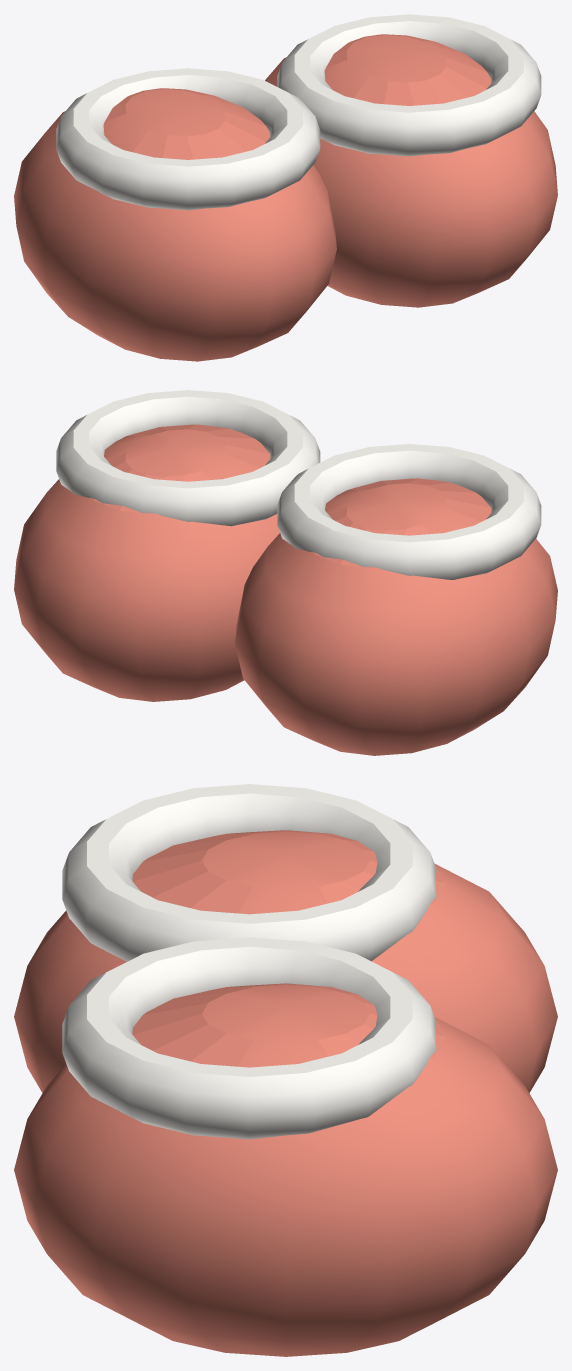
The model's file is Shoes_Moonboots.fbx.
The picture shows the model from 3 angles, top to bottom: view 1: azimuth 30°, elevation 25°; view 2: azimuth 150°, elevation 25°; view 3: azimuth 270°, elevation 25°; orthographic projection. The views are drawn at different scales.
Parts seen in each view (by area): view 1: Moon_Boot.001, Moon_Boot, Moon_Boot_Ring.001, Moon_Boot_Ring; view 2: Moon_Boot.001, Moon_Boot, Moon_Boot_Ring.001, Moon_Boot_Ring; view 3: Moon_Boot, Moon_Boot.001, Moon_Boot_Ring, Moon_Boot_Ring.001.
Part boxes in pixels (x1,y1,x2,y2): Moon_Boot.001: (14,88,336,361); Moon_Boot: (265,34,557,307); Moon_Boot_Ring.001: (56,68,320,210); Moon_Boot_Ring: (277,14,541,156); Moon_Boot.001: (235,478,557,755); Moon_Boot: (14,424,279,701); Moon_Boot_Ring.001: (277,444,541,579); Moon_Boot_Ring: (56,390,320,526); Moon_Boot: (14,983,557,1356); Moon_Boot.001: (14,830,557,1092); Moon_Boot_Ring: (62,937,436,1139); Moon_Boot_Ring.001: (62,784,436,961).
Size of the model in its own units: 44 by 20 by 30.
